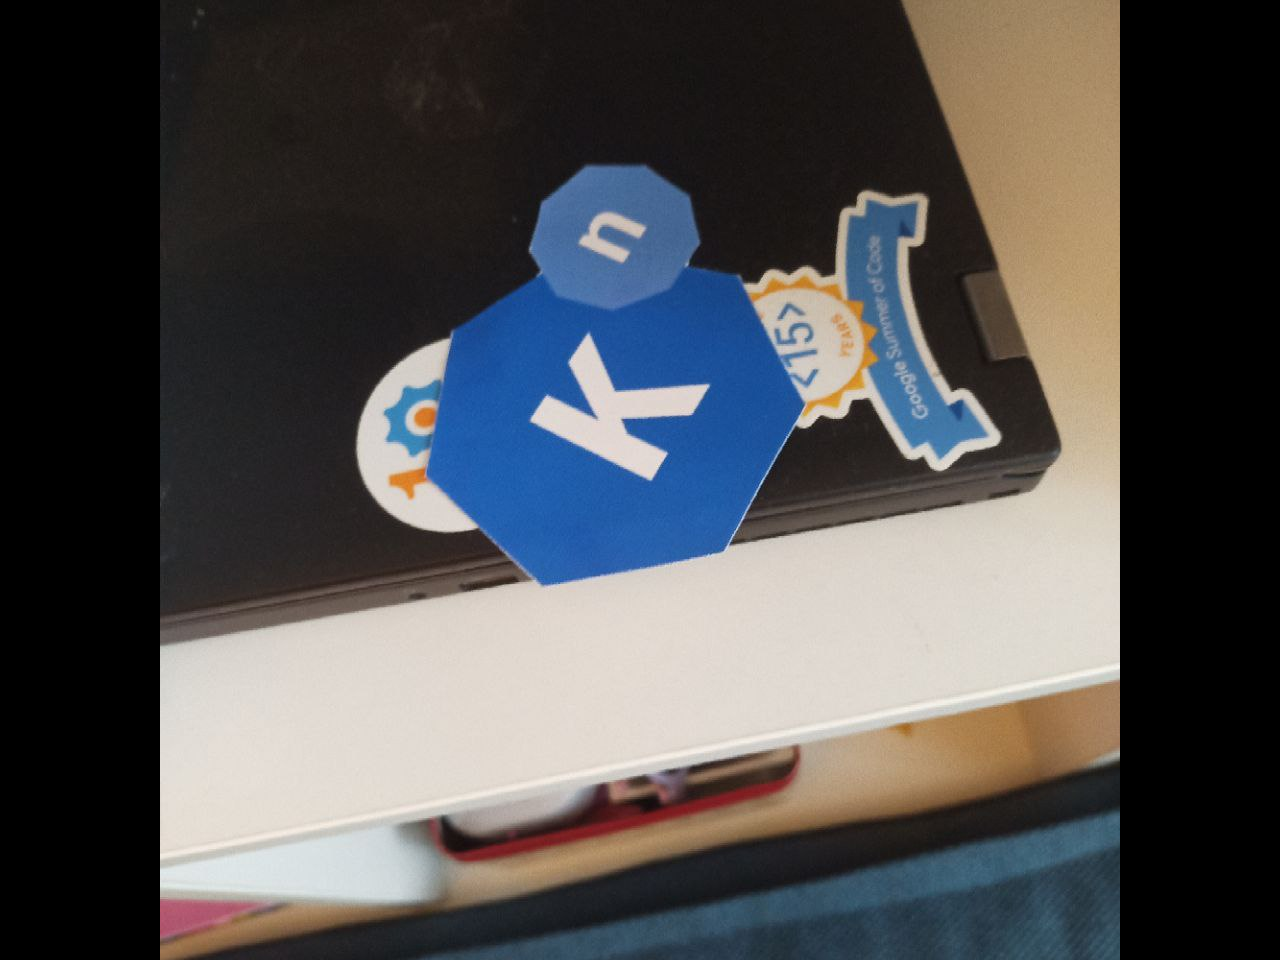knative: (424, 164, 805, 587)
